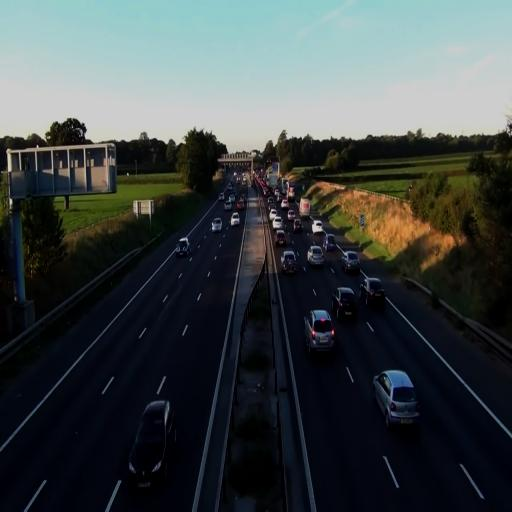vehicle: (128, 398, 177, 492), (372, 369, 421, 431), (304, 309, 336, 357), (333, 286, 357, 321), (365, 277, 385, 310), (281, 249, 298, 275), (342, 251, 361, 274), (307, 244, 324, 268), (176, 238, 190, 258), (275, 230, 288, 248), (212, 217, 222, 233), (230, 212, 239, 226)
